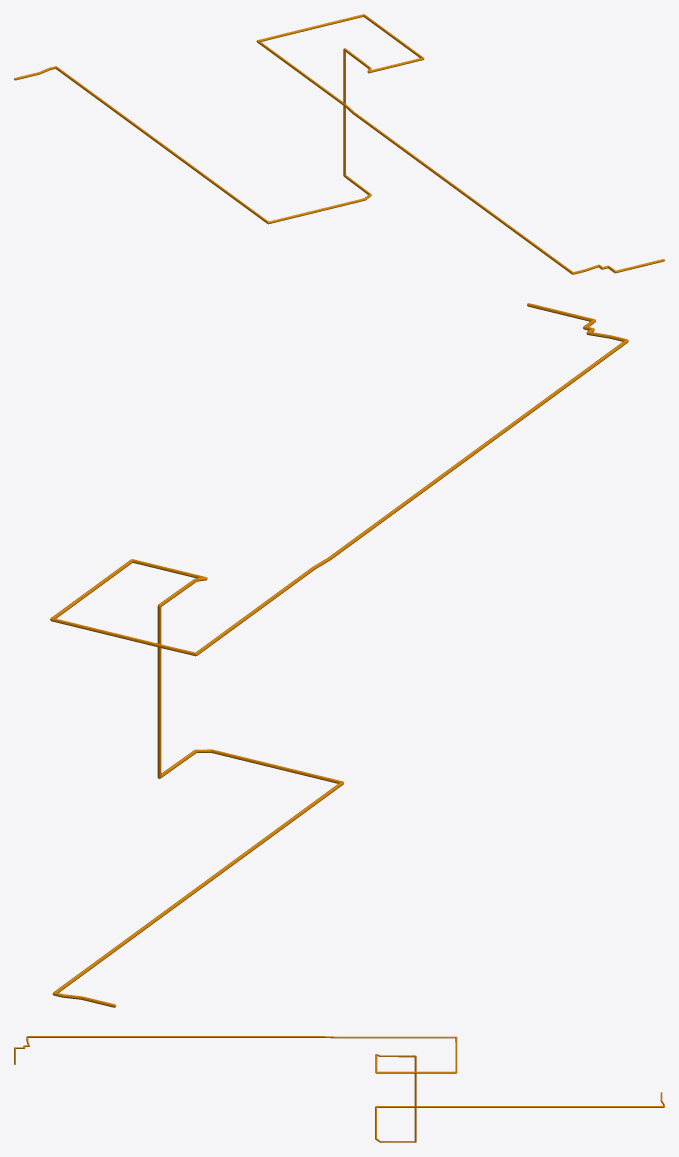
3 renders of one model, top to bottom at view 1: azimuth 30°, elevation 25°; view 2: azimuth 150°, elevation 25°; view 3: azimuth 270°, elevation 25°, orthographic. The views are drawn at different scales.
Size of the model in its own units: 1656 by 1020 by 6895.
